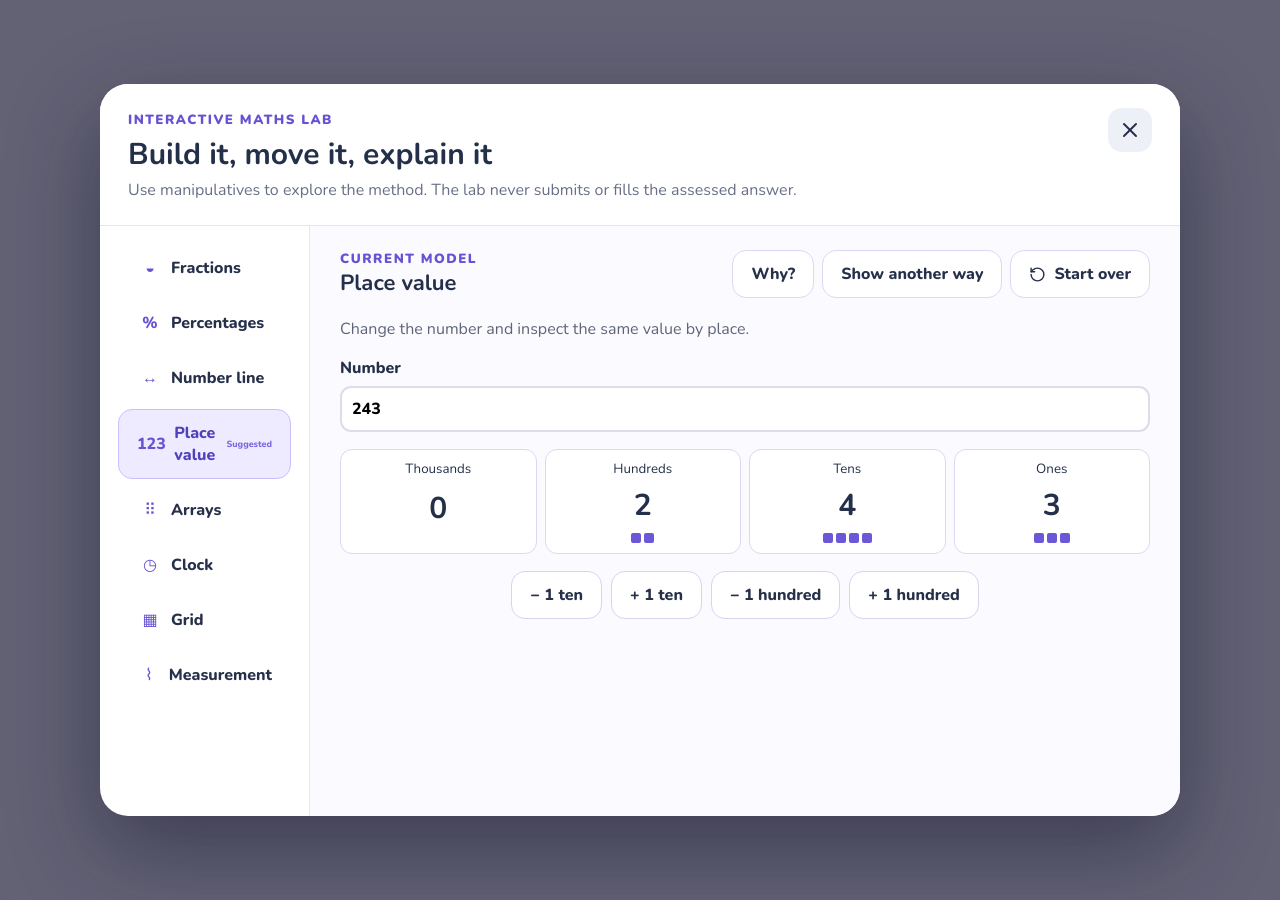
interactive Maths Lab › offers explanation and alternative-strategy support without exposing an answer
Click the button "Why?".
click(773, 274)  # box [732, 250, 814, 298]
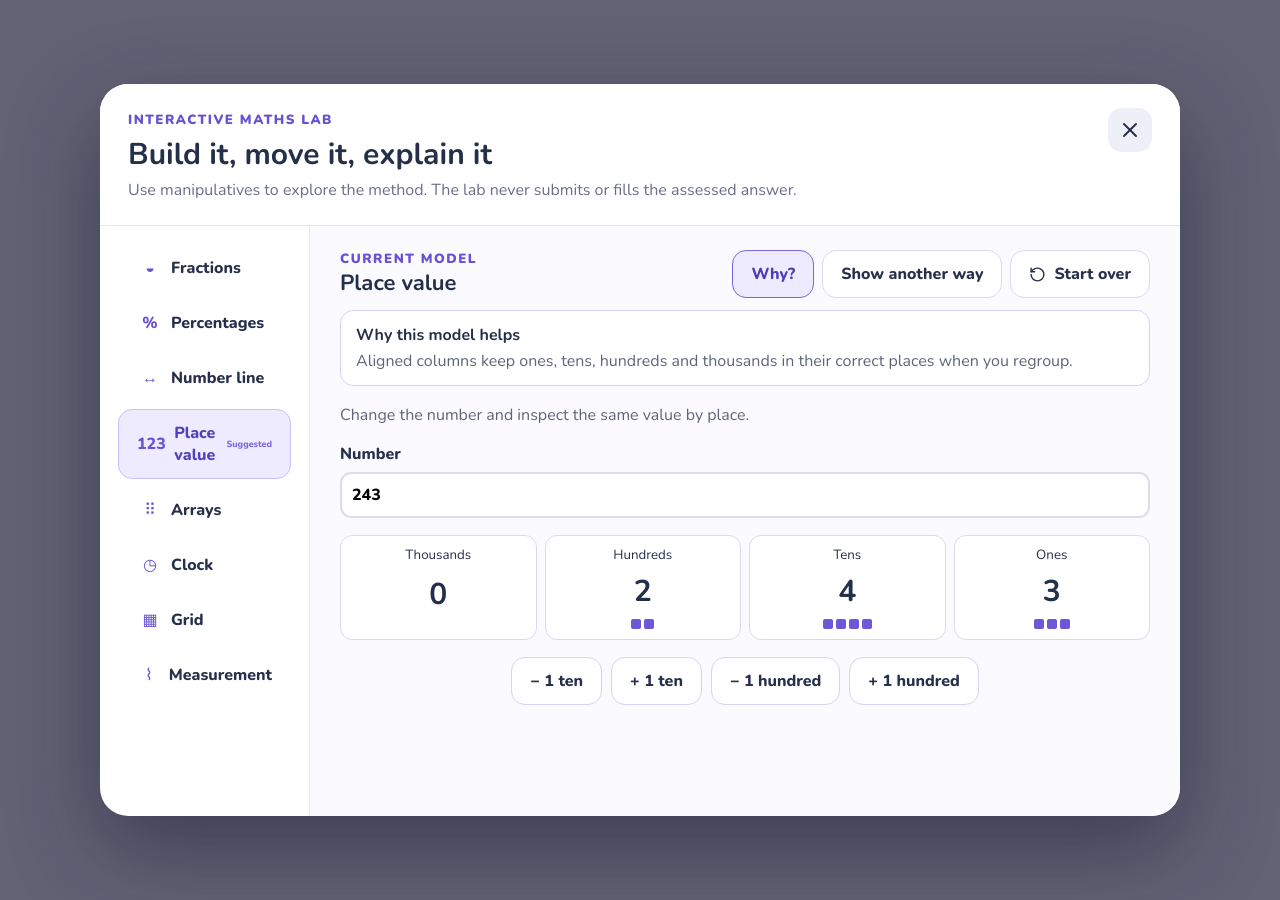
expect the text "Why this model helps" is shown: met, box [356, 324, 520, 346]
expect the text "Aligned columns keep ones, tens, hundreds" is shown: met, box [356, 350, 1073, 372]
Click the button "Show another way".
click(912, 274)  # box [822, 250, 1002, 298]
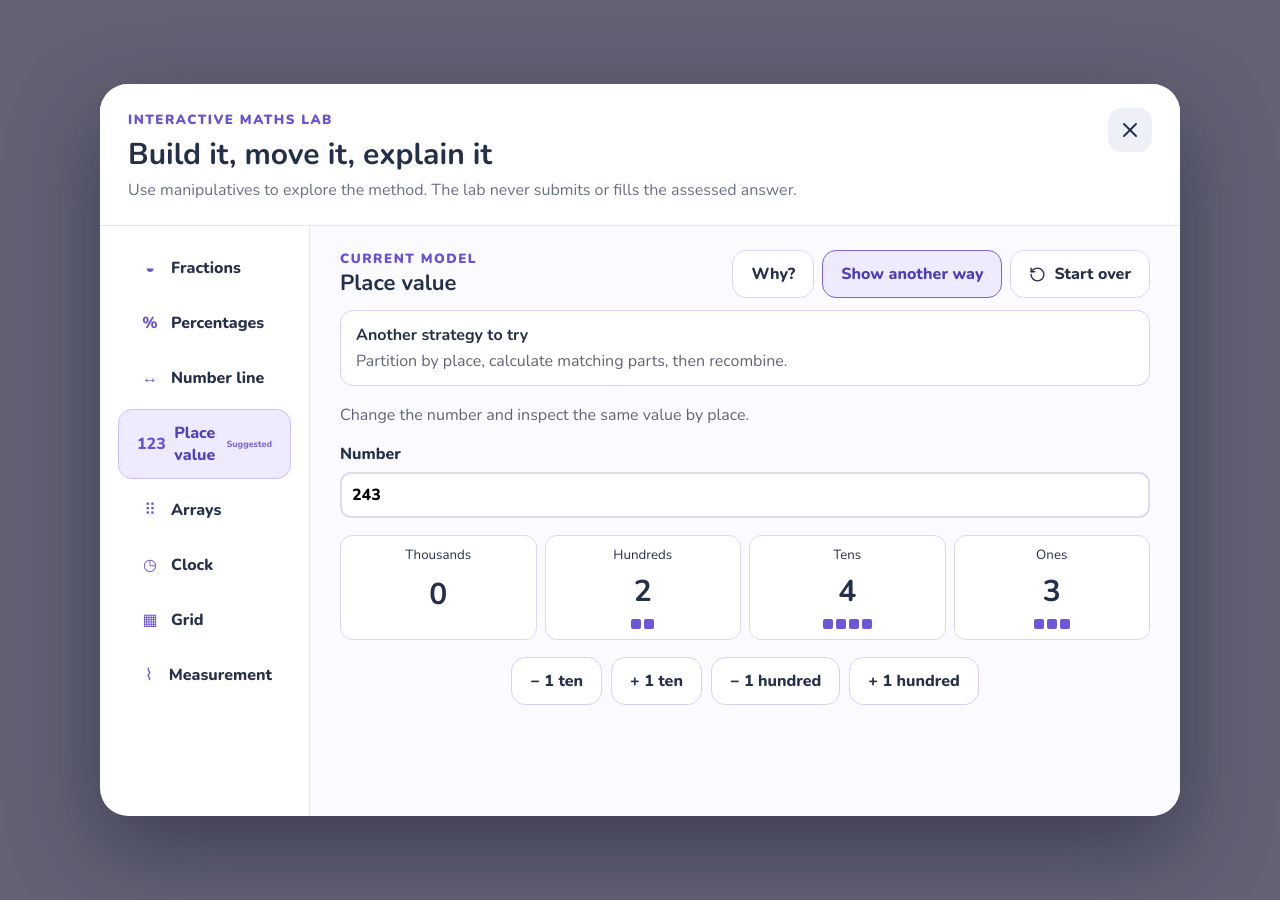
expect the text "Another strategy to try" is shown: met, box [356, 324, 528, 346]
